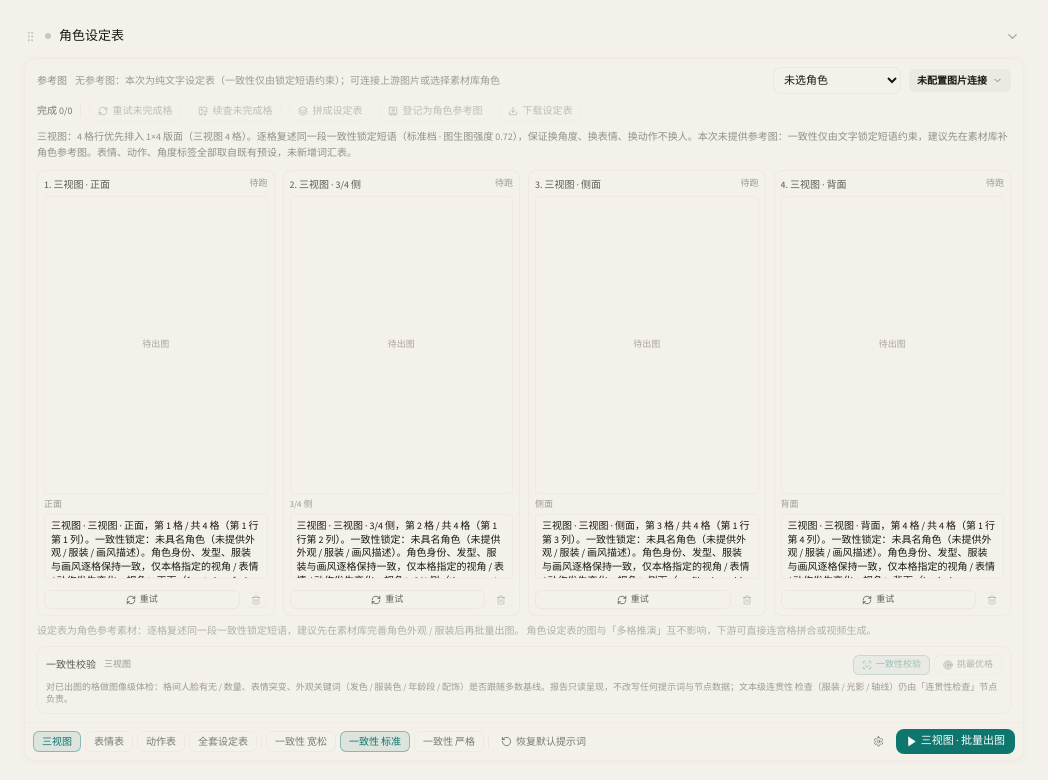
Test: CharacterSheetWorkspace：空态 / 无参考图 › 三视图默认版面：格数 / 概览 / 主 CTA 文案都按真实版面表生成（无需参考图也要能出图）
This screenshot has width=1048, height=780.
Check: the number of text boxes titled "编辑后该格按此文本出图（中英同源）" is 4, box [44,514,268,579]; [290,514,513,579]; [535,514,758,579]; [780,514,1004,579]
Click the button titled "更多设置". click: x=878, y=742
box: [867,734,890,749]
(page scrolled)
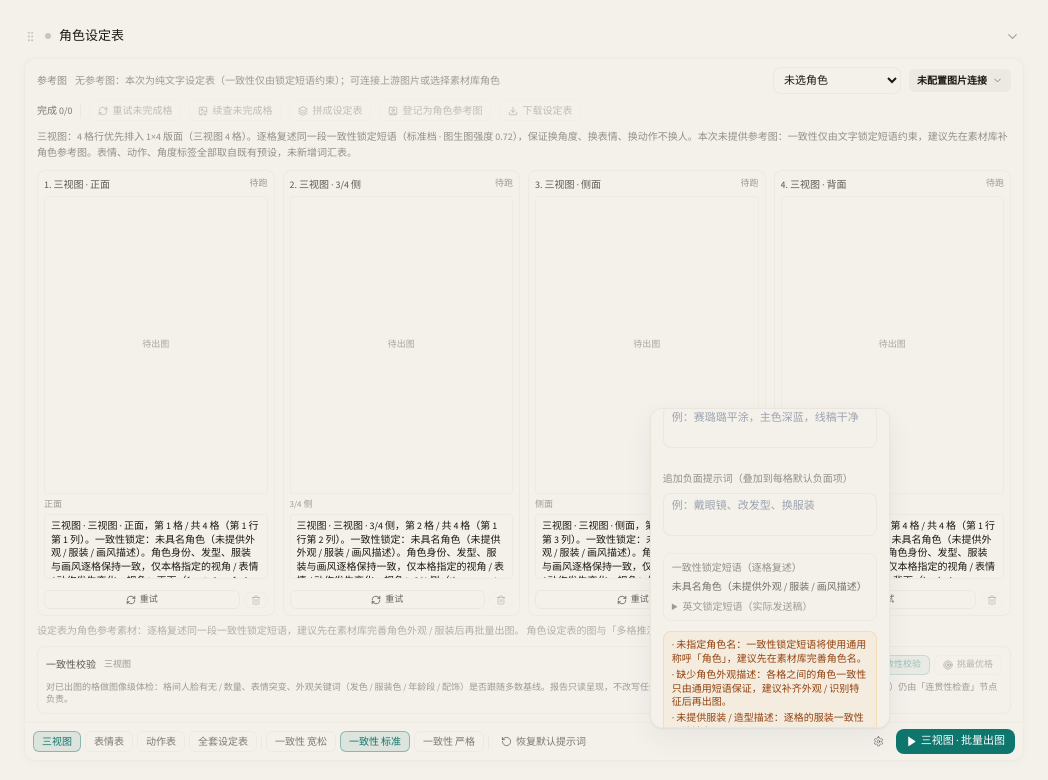
Check: the text "一致性锁定短语（逐格复述）" is shown, box [672,561,802,574]
